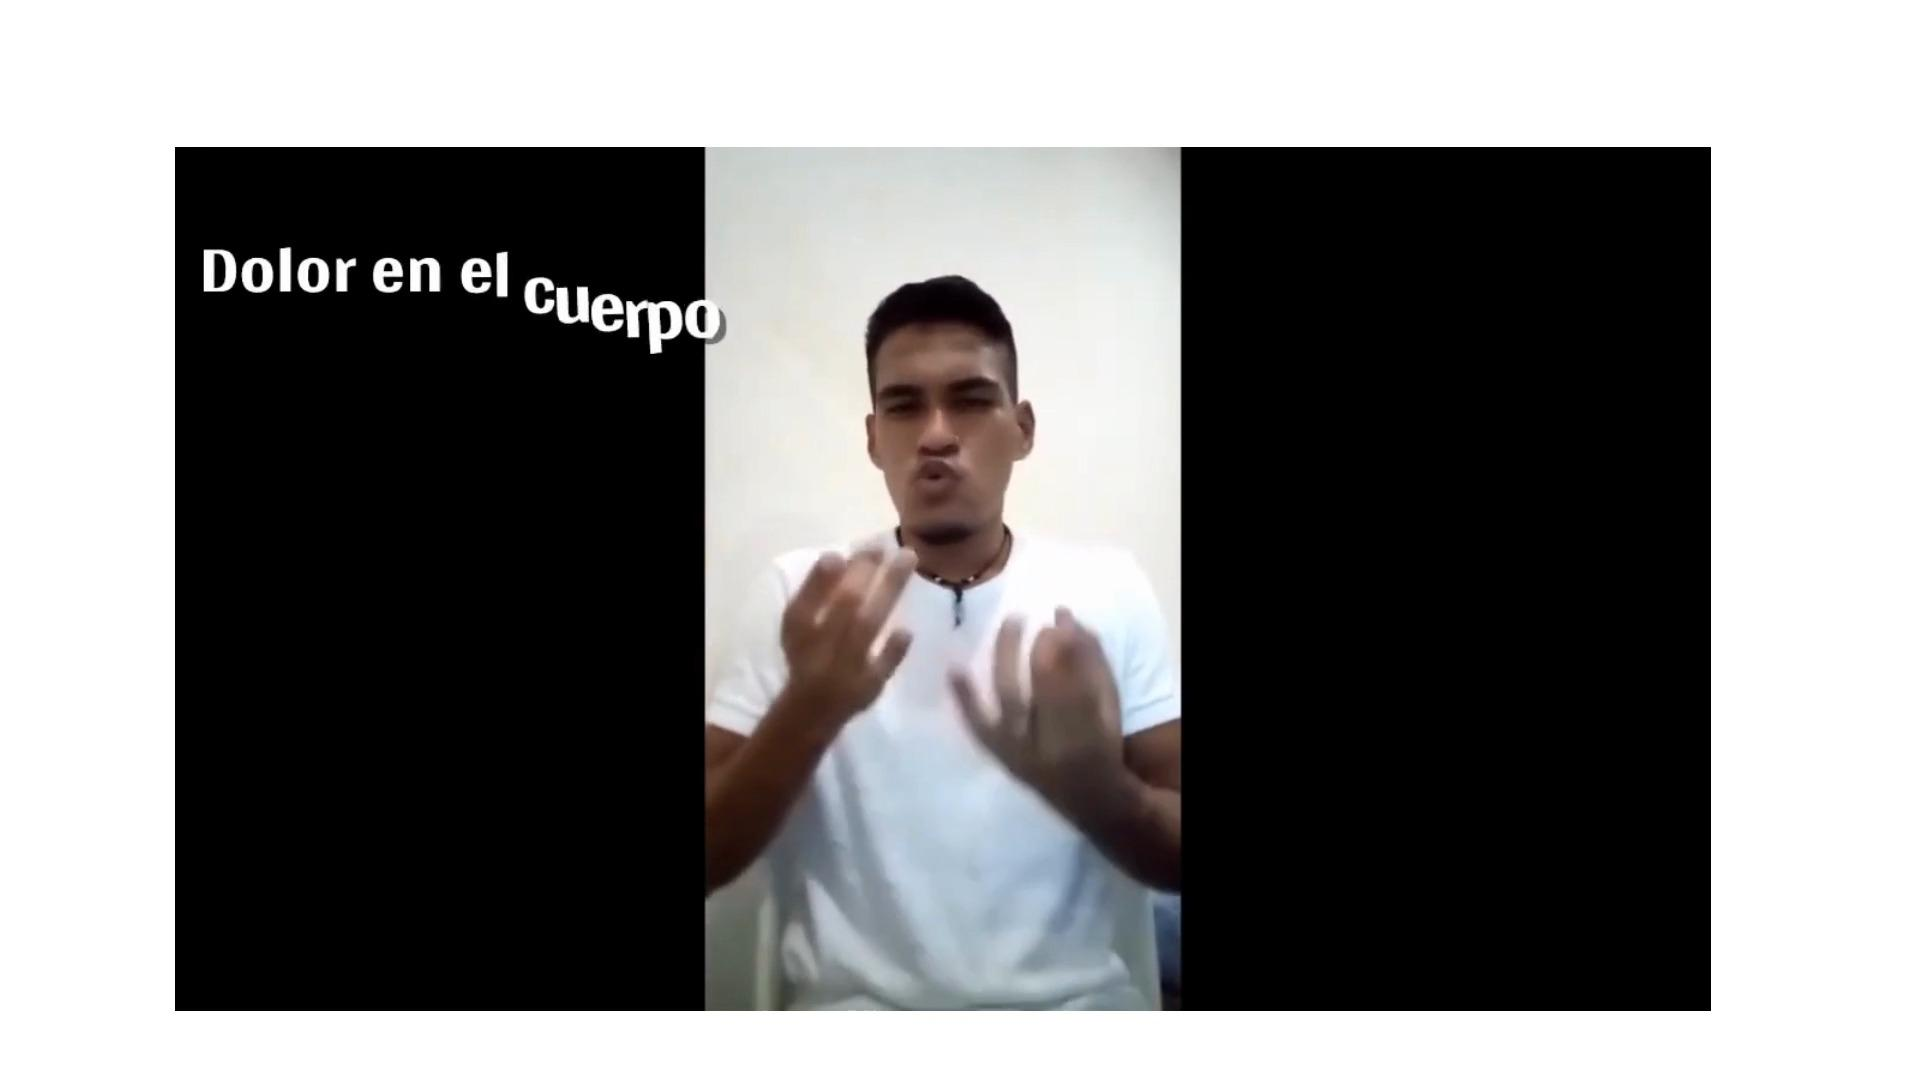Dolor: (727, 224, 1186, 962)
